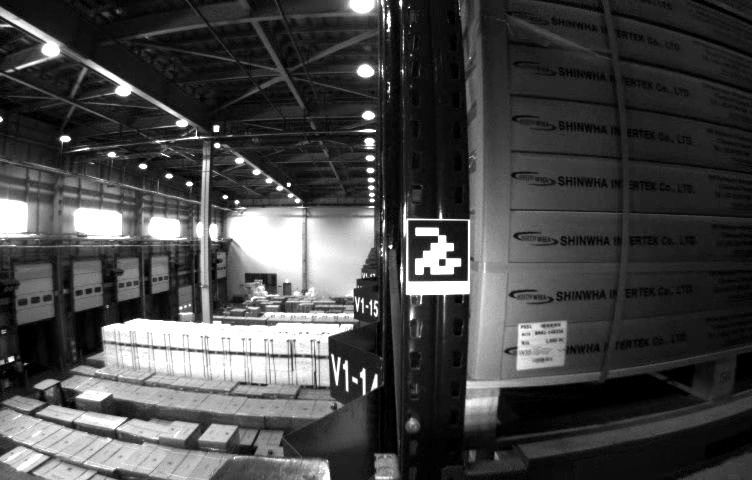True Barcode: (513, 318, 570, 370)
